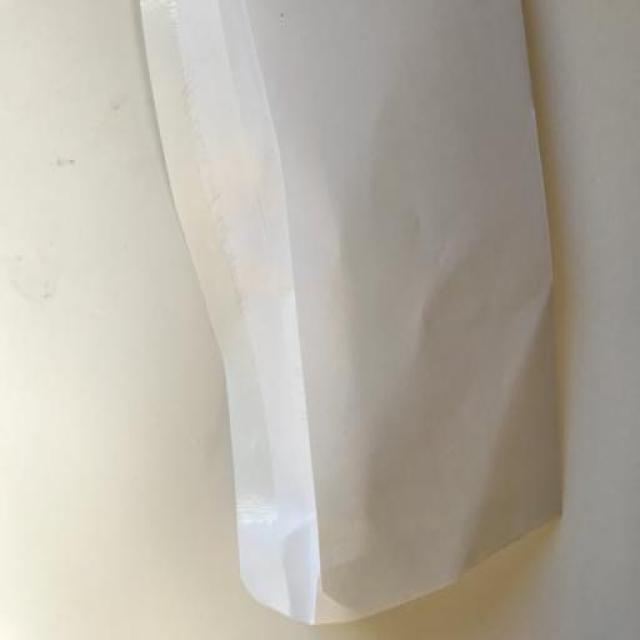paper: (132, 0, 564, 625)
